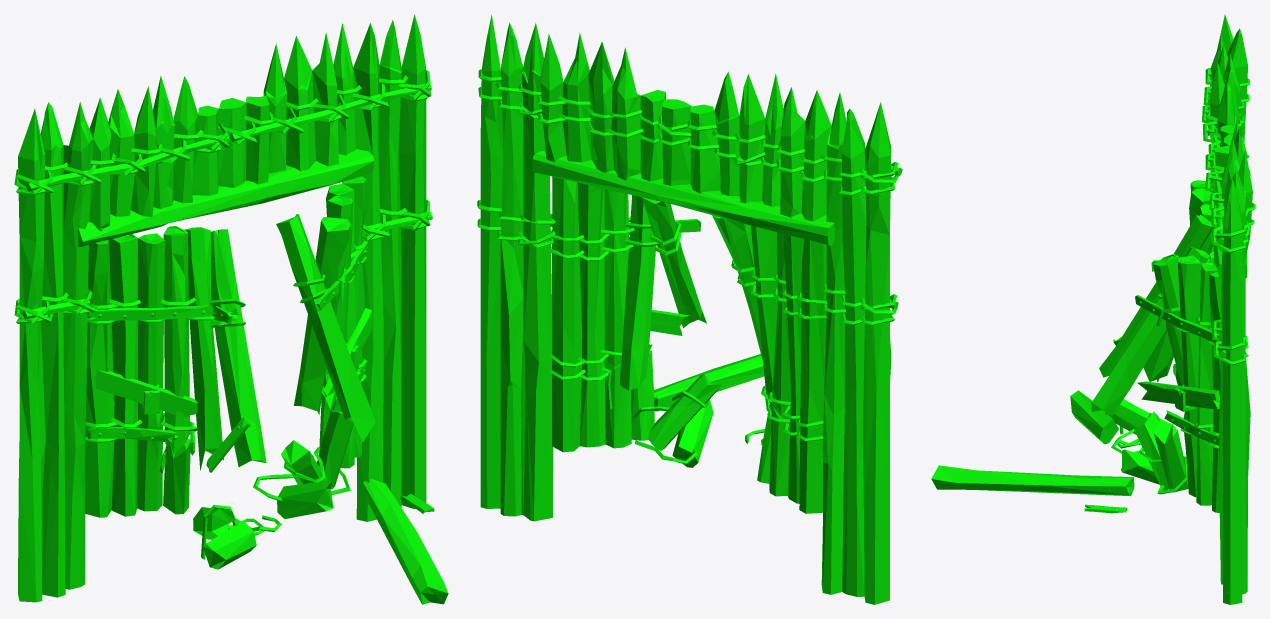
Rendered from SM_Palisade_Gate_A_Broken.fbx.
3 views of the same model, side by side, from view 1: azimuth 30°, elevation 25°; view 2: azimuth 150°, elevation 25°; view 3: azimuth 270°, elevation 25° (orthographic). The views are drawn at different scales.
Visible parts, largest first — view 1: palisade-gate-a-broken-base, palisade-gate-a-broken-door-l, palisade-gate-a-broken-door-r; view 2: palisade-gate-a-broken-base, palisade-gate-a-broken-door-r, palisade-gate-a-broken-door-l; view 3: palisade-gate-a-broken-base, palisade-gate-a-broken-door-r, palisade-gate-a-broken-door-l.
Boxes of the visible parts, bbox=[...] form: palisade-gate-a-broken-base: bbox=[14, 14, 448, 604]; palisade-gate-a-broken-door-l: bbox=[85, 226, 266, 517]; palisade-gate-a-broken-door-r: bbox=[253, 176, 375, 518]; palisade-gate-a-broken-base: bbox=[477, 15, 902, 604]; palisade-gate-a-broken-door-r: bbox=[549, 176, 721, 467]; palisade-gate-a-broken-door-l: bbox=[712, 215, 826, 513]; palisade-gate-a-broken-base: bbox=[931, 14, 1255, 604]; palisade-gate-a-broken-door-r: bbox=[1091, 247, 1221, 512]; palisade-gate-a-broken-door-l: bbox=[1099, 180, 1215, 385].
Size of the model in its own units: 6.14 by 6.95 by 4.8.
